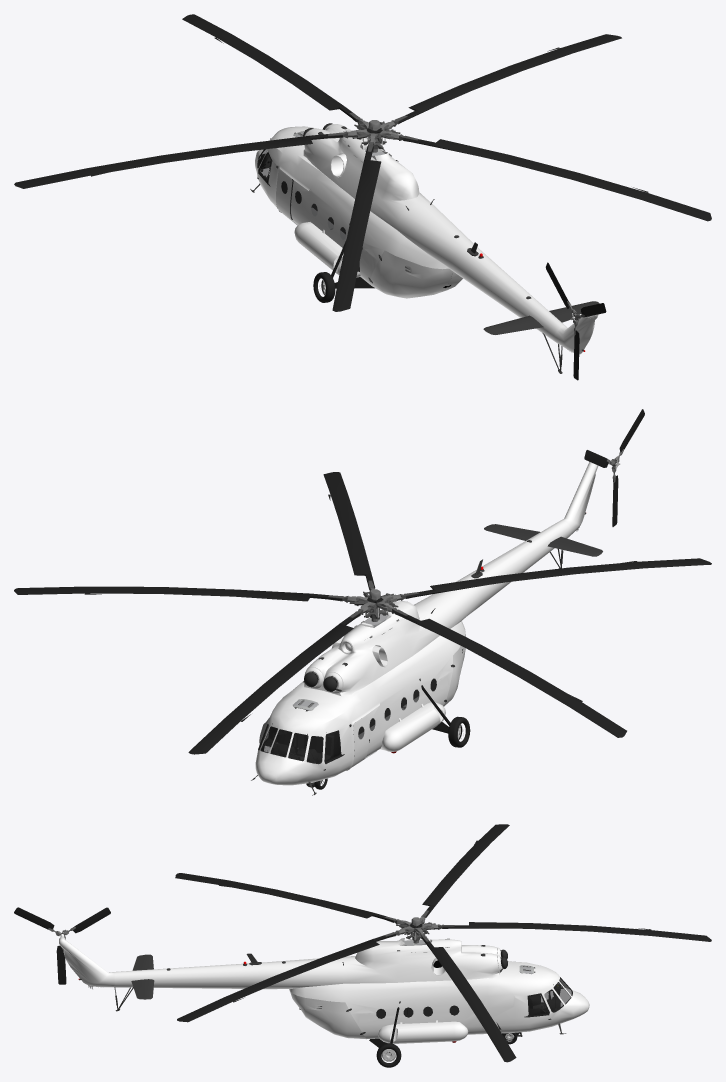
The picture shows the model from 3 angles, top to bottom: view 1: azimuth 30°, elevation 25°; view 2: azimuth 150°, elevation 25°; view 3: azimuth 270°, elevation 25°; orthographic projection. The views are drawn at different scales.
Parts seen in each view (by area): view 1: object 23, object 21, object 20, Gruppe#5, object 11, object 16, object 24, object 22, object 14; view 2: object 23, object 20, object 21, glass, object 11, object 16, object 25, object 22, object 24, object 30; view 3: object 20, object 21, object 23, Gruppe#5, object 17, object 11, object 22, glass, object 24, Gruppe#12, object 25, object 30.
Part boxes in pixels (box(x1,y1,x2,y2)): object 23: box(14, 14, 711, 311); object 21: box(258, 124, 566, 341); object 20: box(255, 126, 448, 285); Gruppe#5: box(370, 250, 452, 298); object 11: box(250, 126, 599, 373); object 16: box(294, 222, 360, 277); object 24: box(545, 262, 606, 380); object 22: box(554, 314, 598, 354); object 14: box(276, 169, 292, 221); object 23: box(14, 472, 711, 754); object 20: box(255, 621, 465, 785); object 21: box(293, 520, 570, 784); glass: box(258, 678, 436, 763); object 11: box(251, 512, 602, 795); object 16: box(380, 702, 445, 751); object 25: box(260, 695, 418, 762); object 22: box(561, 462, 611, 537); object 24: box(584, 409, 644, 526); object 30: box(258, 700, 406, 764); object 20: box(289, 961, 589, 1039); object 21: box(114, 938, 549, 1035); object 23: box(175, 824, 711, 1062); Gruppe#5: box(289, 990, 366, 1038); object 17: box(378, 1020, 468, 1043); object 11: box(78, 940, 566, 1042); object 22: box(59, 934, 115, 987); glass: box(376, 977, 572, 1018); object 24: box(14, 907, 110, 984); Gruppe#12: box(376, 1043, 401, 1067); object 25: box(406, 966, 560, 1015); object 30: box(376, 977, 572, 1018).
Size of the model in its own units: 50.97 by 12.72 by 63.2.
18 materials, 1 textured.
